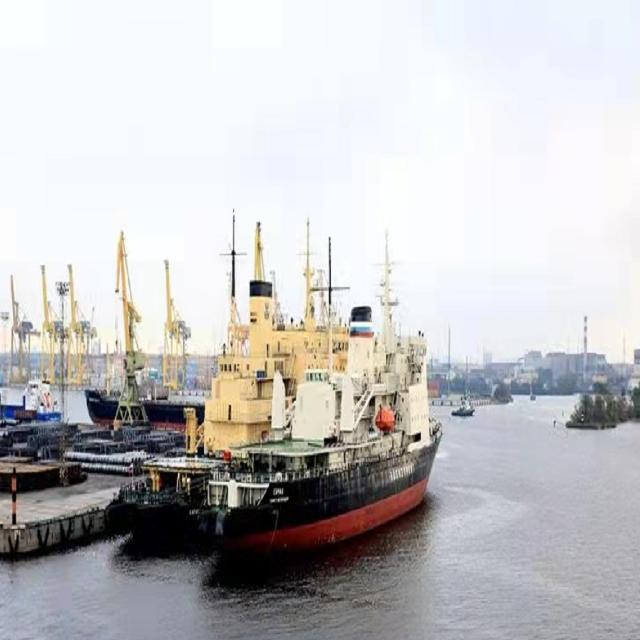cargoship: (233, 345, 458, 561)
